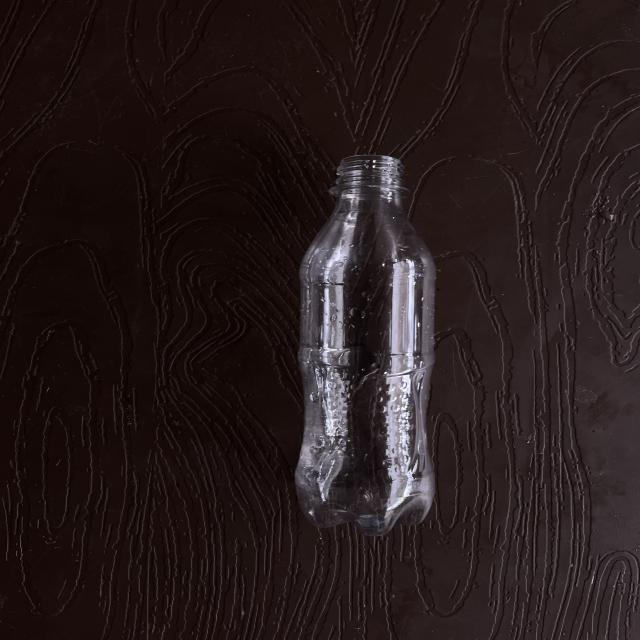PET_With_Liquid: (296, 156, 435, 534)
